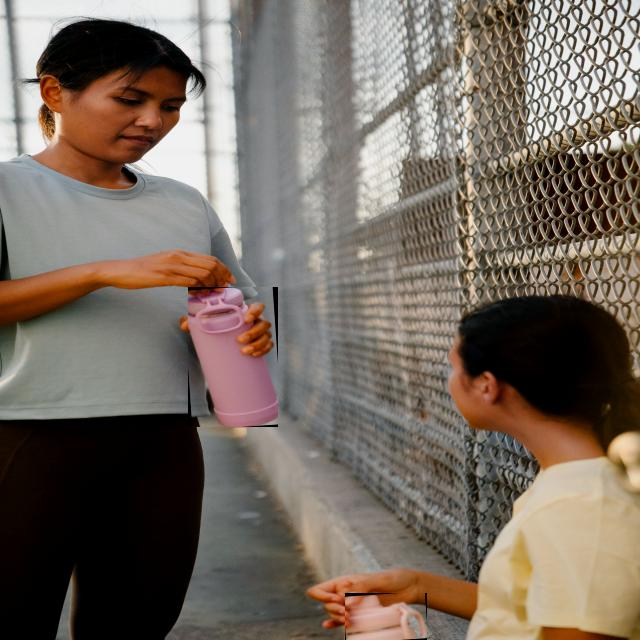Bottle: (188, 287, 276, 427), (344, 594, 425, 639)
